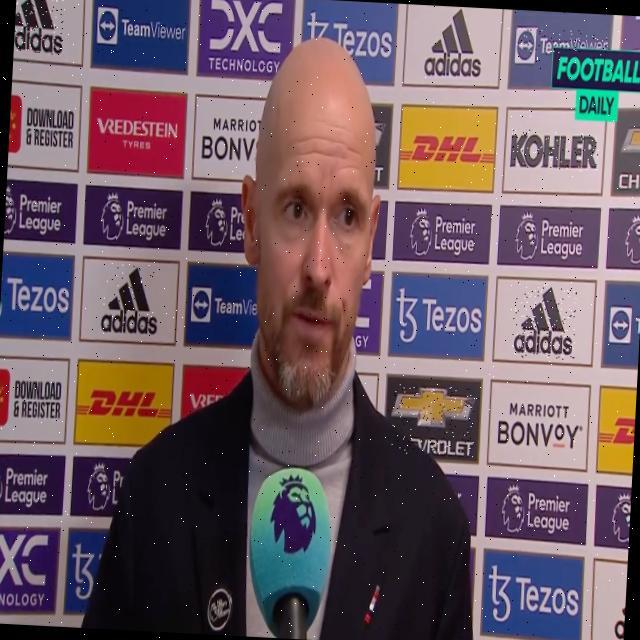Adidas: (511, 283, 578, 361), (423, 5, 486, 82), (99, 262, 161, 337), (13, 0, 66, 55)
Chevrolet: (392, 384, 478, 457)
Kohler: (509, 129, 599, 173)
TeamViewer: (516, 27, 611, 67)
